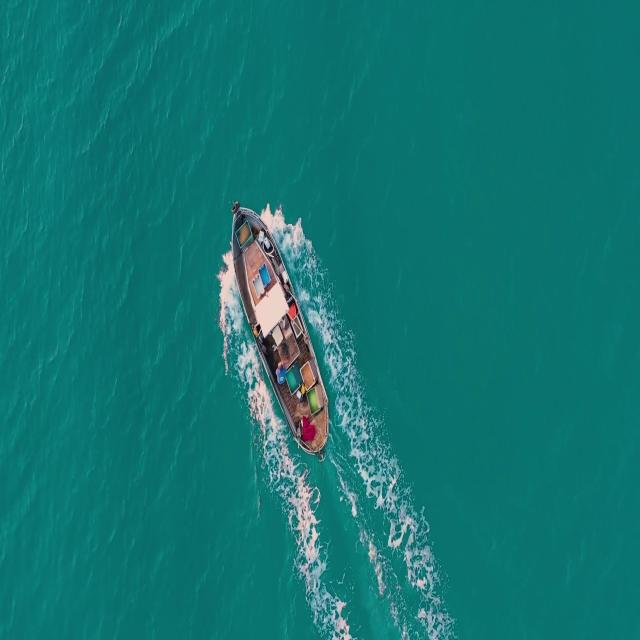ship: (225, 201, 333, 464)
